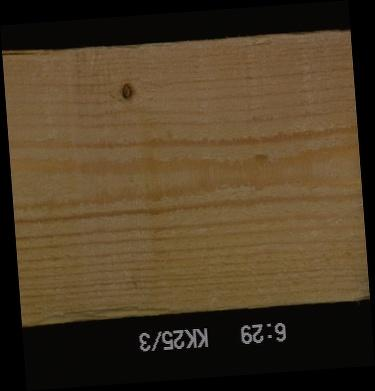dry_knot: (119, 81, 134, 101)
wave: (30, 304, 178, 320)
